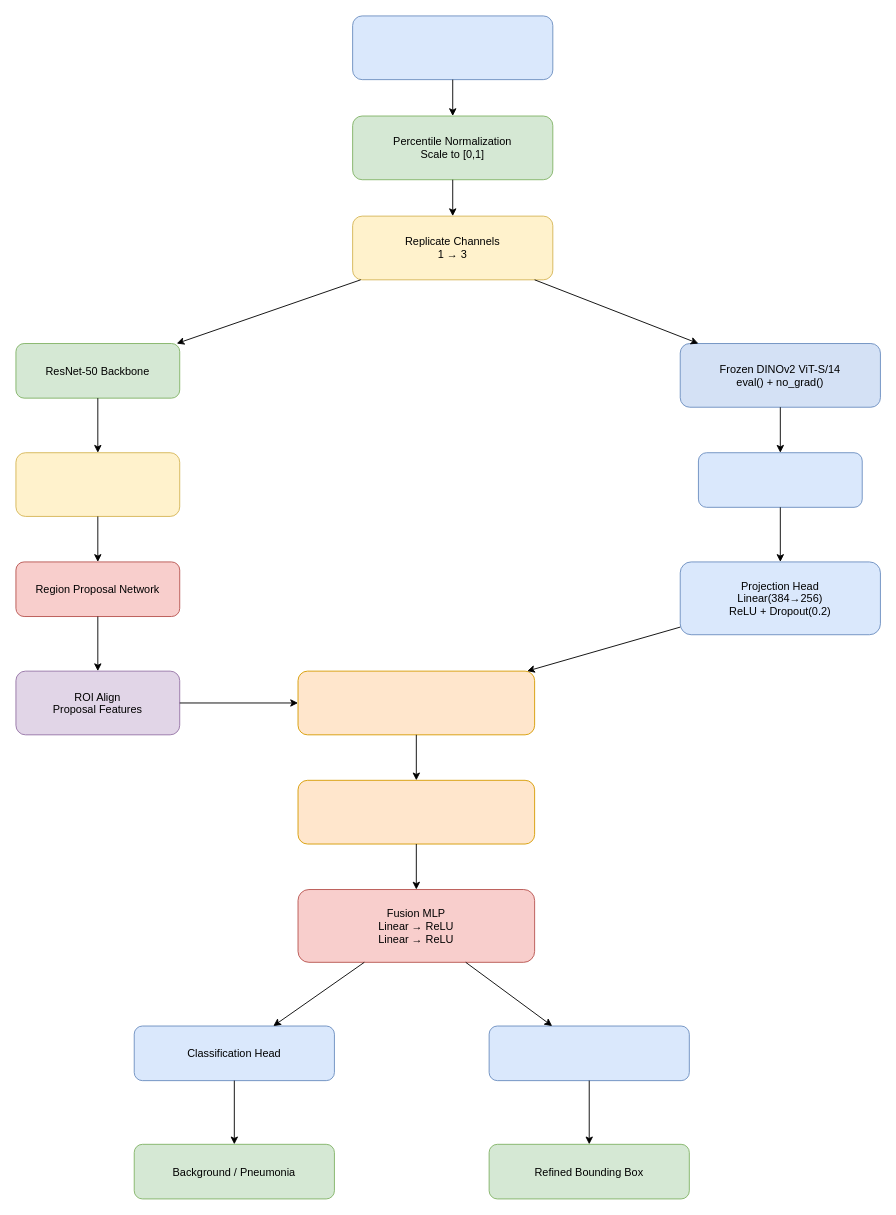
The diagram is 896 pixels wide and 1215 high, and some of its shapes have lost their labels. The centre of each missing label's shape, as x and y in pixels:
"Bounding Box Head" goes at point (588, 1053).
"Broadcast Global Context to N Proposals" goes at point (416, 702).
"Concatenate ROI Features + DINO Context" goes at point (416, 811).
"DICOM Chest X-ray (1-channel, 16-bit)" goes at point (452, 47).
"Feature Pyramid Network (P2,P3,P4,P5)" goes at point (97, 484).
"Global Embedding 384-d" goes at point (780, 479).
